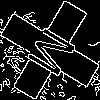M: (25, 25, 86, 84)
